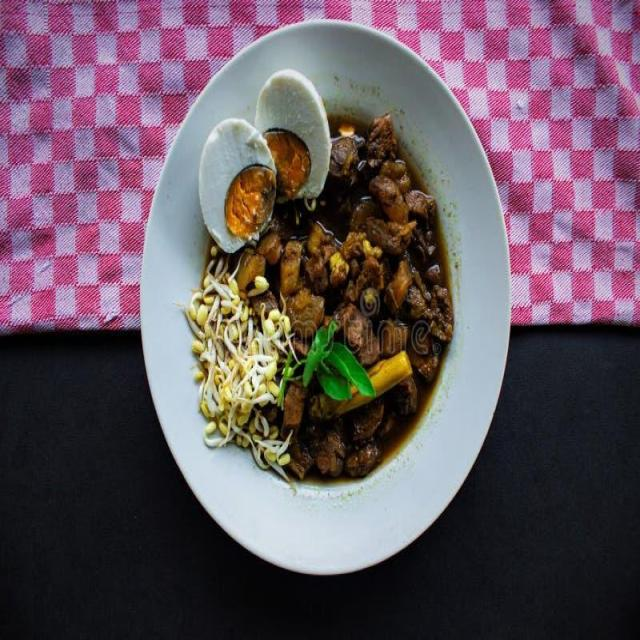Rawon: (199, 119, 441, 466)
